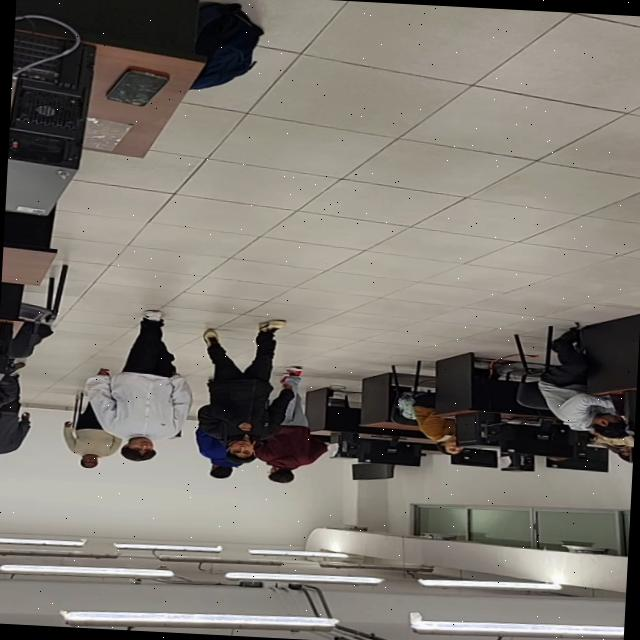Persona: (80, 306, 198, 465), (194, 314, 300, 467), (246, 363, 334, 486), (63, 400, 125, 470), (0, 361, 35, 474), (190, 426, 244, 480)
